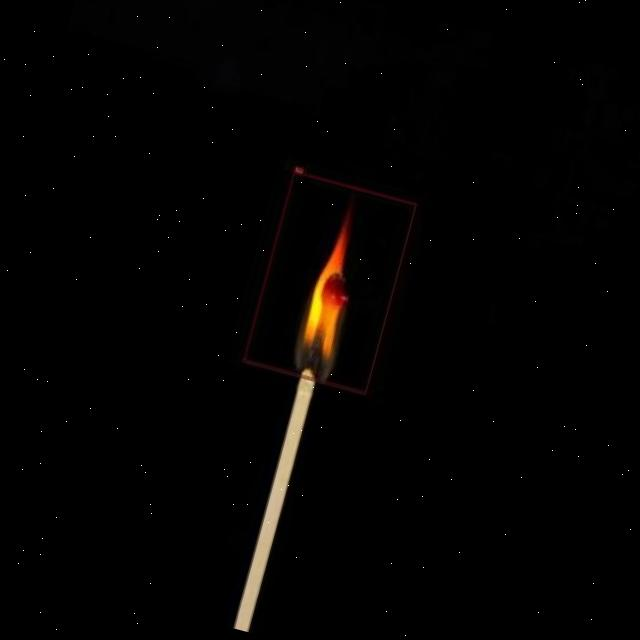fire: (242, 171, 416, 394)
